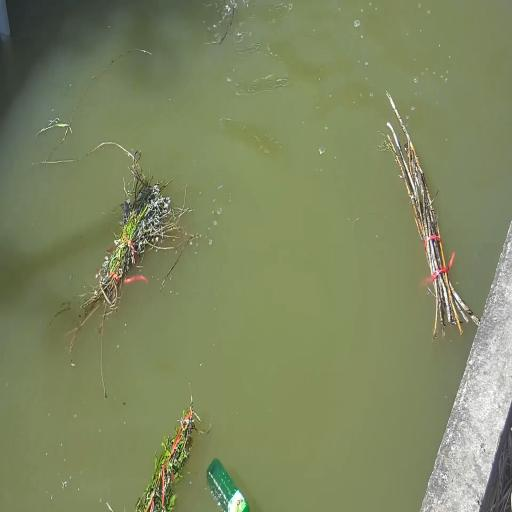plastic: (206, 452, 253, 512)
twig: (384, 97, 478, 336), (83, 154, 174, 312), (138, 401, 198, 512)
